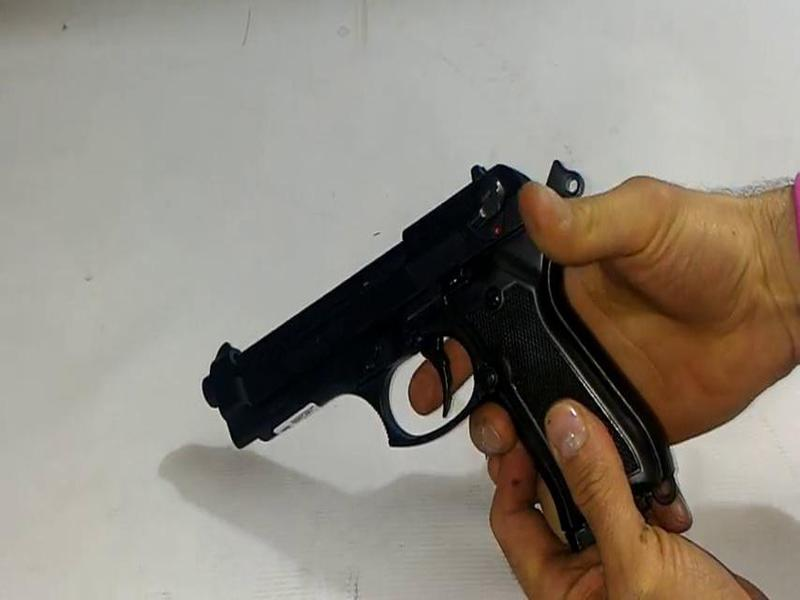Pistola: (192, 136, 704, 564)
